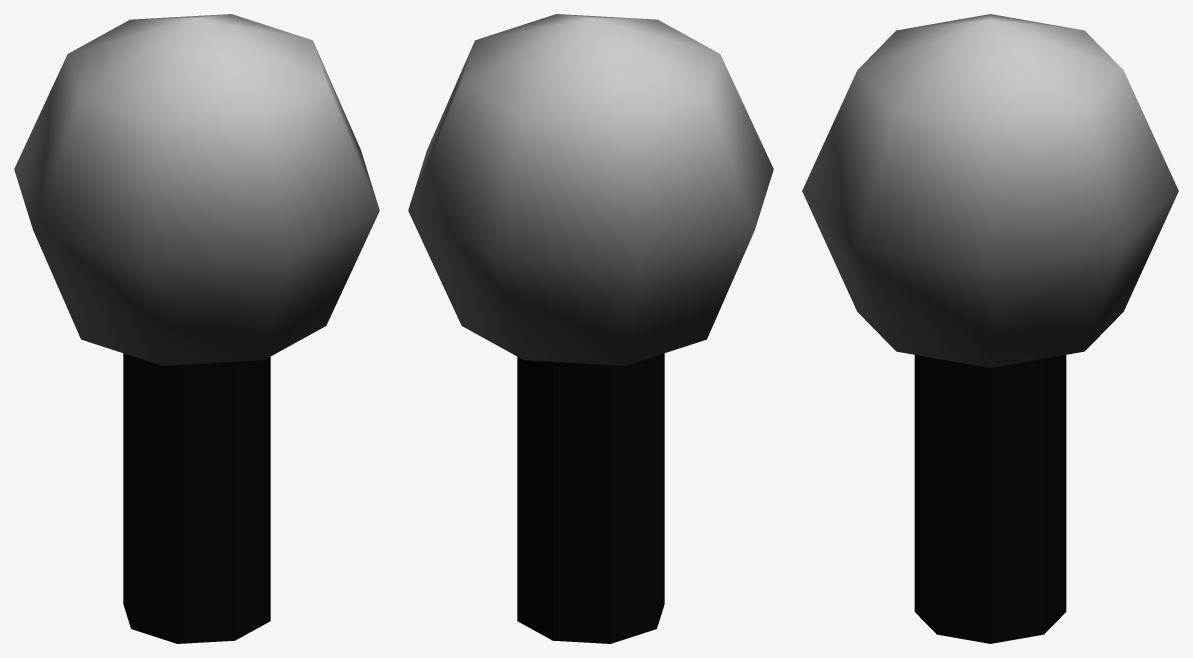
The model's file is LampPole_Short_White.fbx.
3 views of the same model, side by side, from view 1: azimuth 30°, elevation 25°; view 2: azimuth 150°, elevation 25°; view 3: azimuth 270°, elevation 25° (orthographic).
Parts seen in each view (by area): view 1: LampPole_Short_White; view 2: LampPole_Short_White; view 3: LampPole_Short_White.
Boxes of the visible parts, x1,y1,x2,y2 form: LampPole_Short_White: (14,14,379,643); LampPole_Short_White: (408,14,773,643); LampPole_Short_White: (802,14,1178,643).
Bounding box in the file's own units: 31.58 × 54.72 × 31.58.
